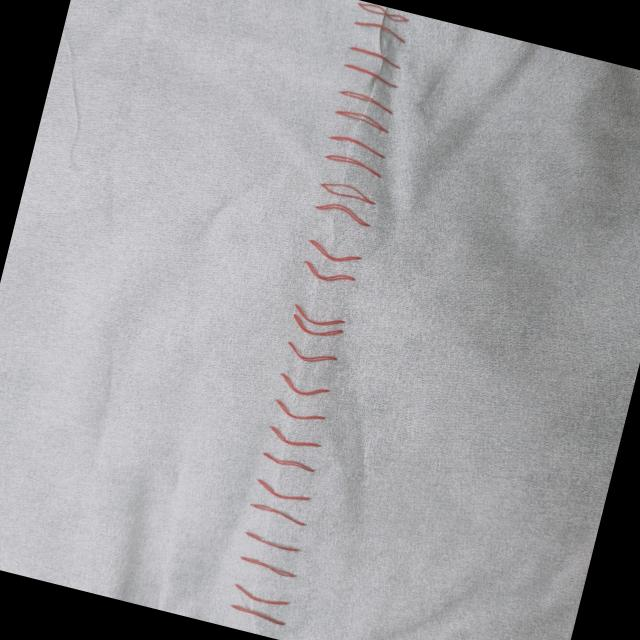gray stitch: (203, 0, 442, 637)
